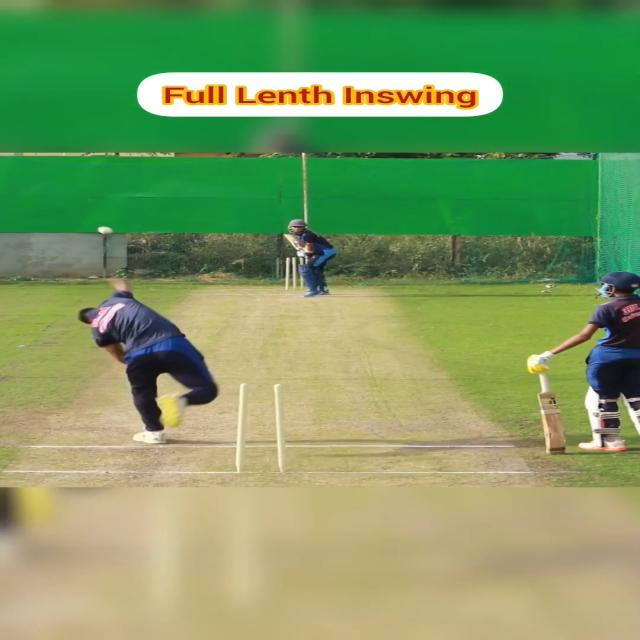ball: (96, 226, 115, 235)
stump: (236, 382, 289, 474), (283, 256, 305, 290)
